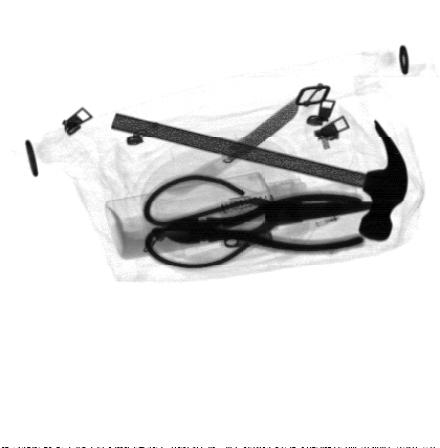Hammer: (110, 113, 409, 243)
Knife: (160, 95, 302, 197)
Pliers: (161, 190, 367, 255)
Scissors: (140, 174, 380, 269)
